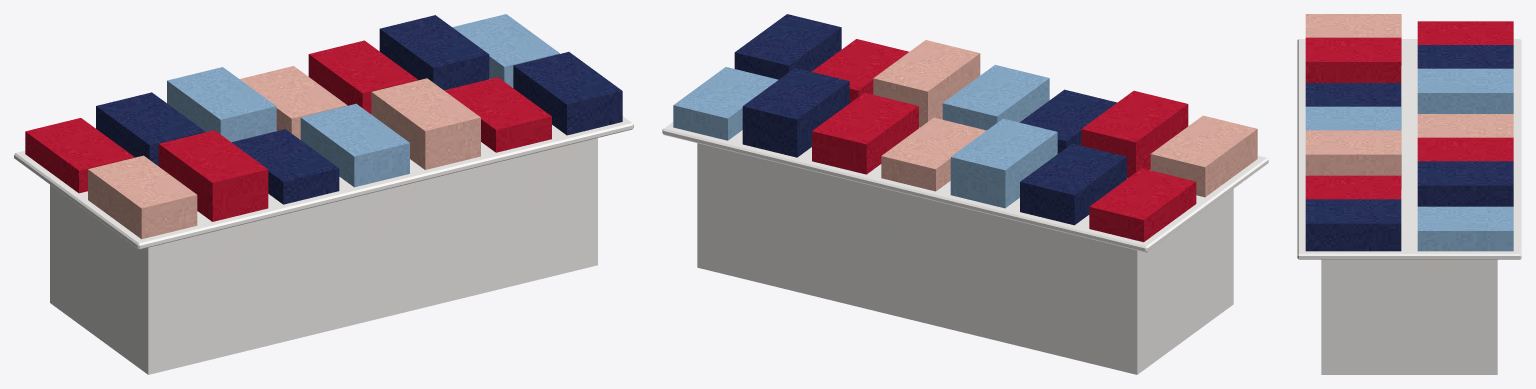
3 renders of one model, left to right at view 1: azimuth 30°, elevation 25°; view 2: azimuth 150°, elevation 25°; view 3: azimuth 270°, elevation 25°, orthographic. The views are drawn at different scales.
Parts seen in each view (by area): view 1: Decor_white_clothes_table; view 2: Decor_white_clothes_table; view 3: Decor_white_clothes_table.
Boxes of the visible parts, <box> form: Decor_white_clothes_table: <box>14,14,633,374</box>; Decor_white_clothes_table: <box>662,14,1268,374</box>; Decor_white_clothes_table: <box>1297,14,1521,374</box>.
Size of the model in its own units: 3.2 by 1.14 by 1.4.
5 materials, 5 textured.
